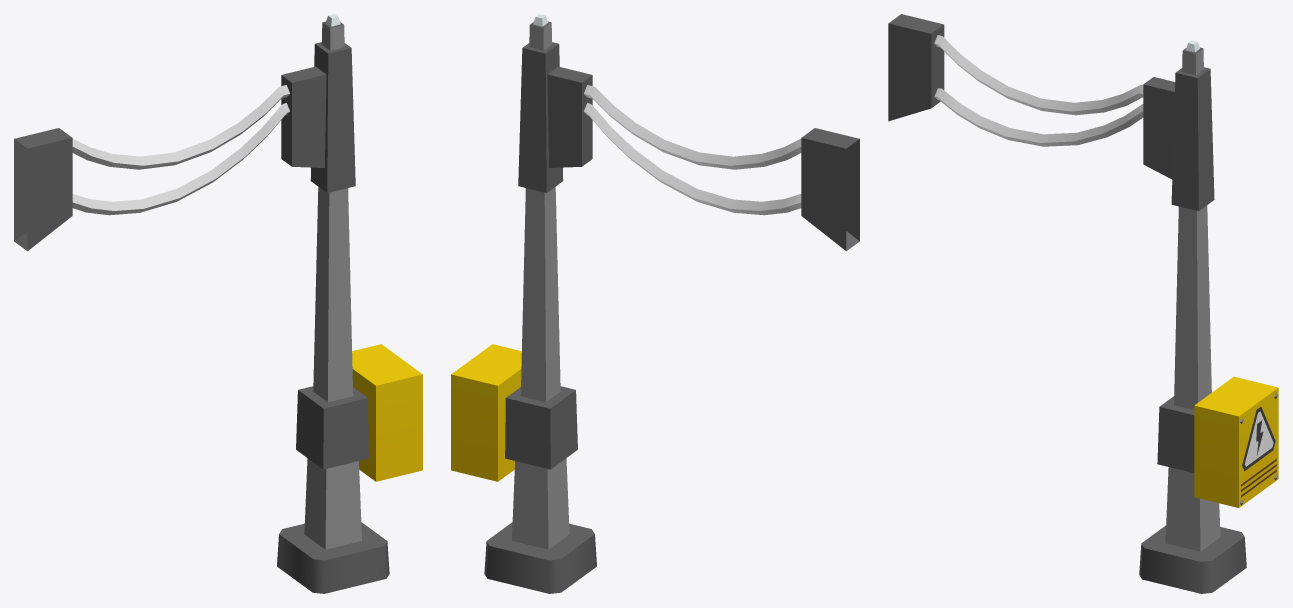
The model's file is Cable_Pole.fbx.
3 views of the same model, side by side, from view 1: azimuth 30°, elevation 25°; view 2: azimuth 150°, elevation 25°; view 3: azimuth 330°, elevation 25° (orthographic). The views are drawn at different scales.
Parts seen in each view (by area): view 1: Cable_Pole_1C001; view 2: Cable_Pole_1C001; view 3: Cable_Pole_1C001.
Part boxes in pixels (box(x1,y1,x2,y2)): Cable_Pole_1C001: box(14, 14, 422, 593); Cable_Pole_1C001: box(451, 14, 859, 593); Cable_Pole_1C001: box(888, 14, 1278, 593).
Size of the model in its own units: 7398 by 10220 by 1485.
